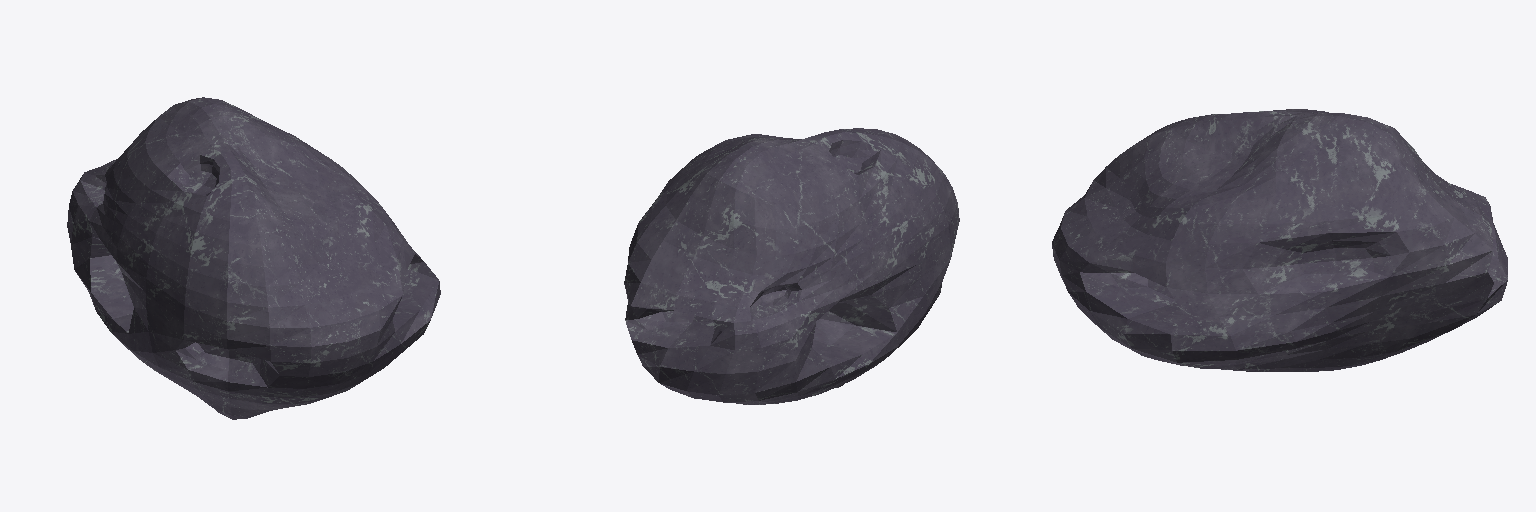
3 views of the same model, side by side, from view 1: azimuth 30°, elevation 25°; view 2: azimuth 150°, elevation 25°; view 3: azimuth 270°, elevation 25° (orthographic).
Parts seen in each view (by area): view 1: pSphere1; view 2: pSphere1; view 3: pSphere1.
Part boxes in pixels (x1,y1,x2,y2): pSphere1: (67,97,440,419); pSphere1: (624,128,959,404); pSphere1: (1052,109,1507,371).
Bounding box in the file's own units: 101 × 98.19 × 152.
1 materials, 1 textured.